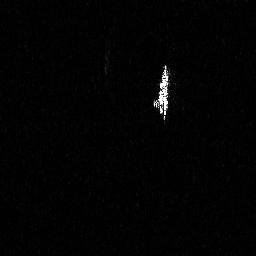ship: (150, 61, 171, 121)
